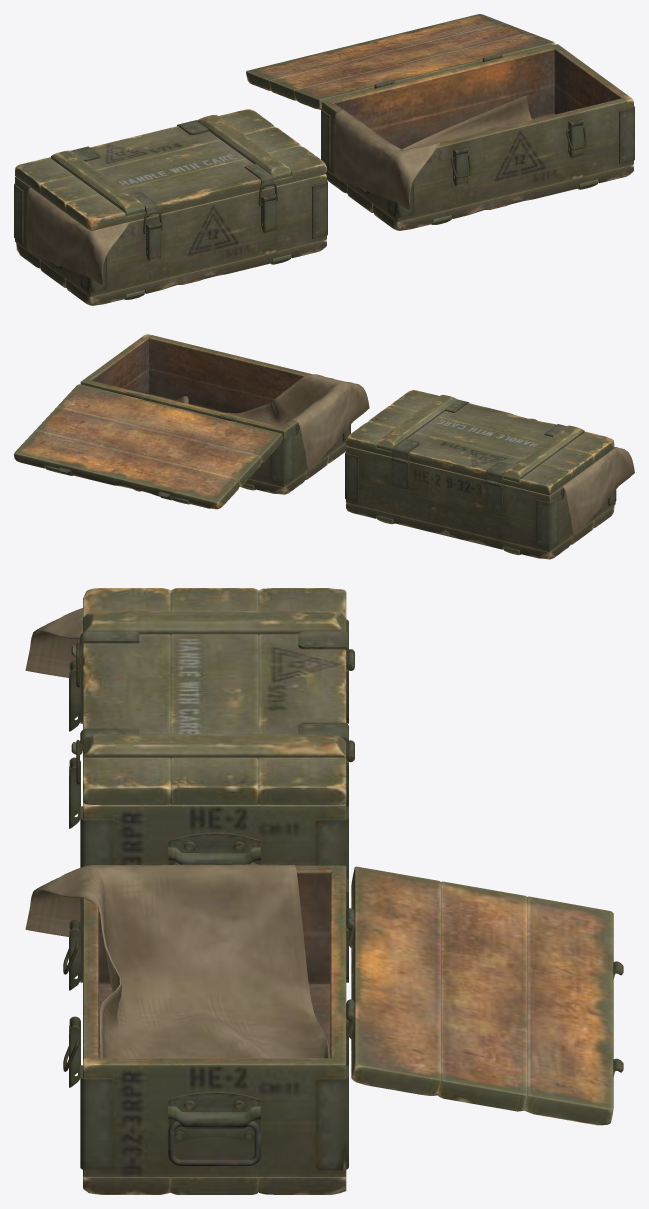
3 renders of one model, top to bottom at view 1: azimuth 30°, elevation 25°; view 2: azimuth 150°, elevation 25°; view 3: azimuth 270°, elevation 25°, orthographic. The views are drawn at different scales.
Parts seen in each view (by area): view 1: old_military_crate_b, old_military_crate_lid_a, old_military_crate_a, old_military_crate_lid_b, old_military_crate_cloth_b, old_military_crate_cloth_a, old_military_crate_latch_a, old_military_crate_latch_b; view 2: old_military_crate_lid_b, old_military_crate_lid_a, old_military_crate_a, old_military_crate_b, old_military_crate_cloth_b, old_military_crate_cloth_a; view 3: old_military_crate_lid_a, old_military_crate_lid_b, old_military_crate_b, old_military_crate_cloth_b, old_military_crate_a, old_military_crate_cloth_a, old_military_crate_latch_b, old_military_crate_latch_a.
Part boxes in pixels (left/top/right/bottom): old_military_crate_b: left=321, top=44, right=634, bottom=230; old_military_crate_lid_a: left=15, top=109, right=326, bottom=230; old_military_crate_a: left=14, top=174, right=327, bottom=305; old_military_crate_lid_b: left=246, top=14, right=555, bottom=109; old_military_crate_cloth_b: left=333, top=95, right=532, bottom=209; old_military_crate_cloth_a: left=26, top=187, right=129, bottom=284; old_military_crate_latch_a: left=146, top=194, right=276, bottom=261; old_military_crate_latch_b: left=453, top=119, right=583, bottom=186; old_military_crate_lid_b: left=14, top=384, right=282, bottom=509; old_military_crate_lid_a: left=346, top=390, right=614, bottom=495; old_military_crate_a: left=345, top=446, right=616, bottom=559; old_military_crate_b: left=80, top=334, right=350, bottom=494; old_military_crate_cloth_b: left=174, top=374, right=369, bottom=470; old_military_crate_cloth_a: left=562, top=447, right=634, bottom=535; old_military_crate_lid_a: left=71, top=588, right=354, bottom=804; old_military_crate_lid_b: left=346, top=866, right=623, bottom=1125; old_military_crate_b: left=80, top=865, right=354, bottom=1194; old_military_crate_cloth_b: left=25, top=864, right=329, bottom=1058; old_military_crate_a: left=80, top=619, right=354, bottom=879; old_military_crate_cloth_a: left=25, top=608, right=82, bottom=677; old_military_crate_latch_b: left=69, top=919, right=80, bottom=1087; old_military_crate_latch_a: left=69, top=660, right=80, bottom=828.
Bounding box in the file's own units: 1.82 × 0.3009 × 0.9757.
Materials: 1 (1 with a texture image).
